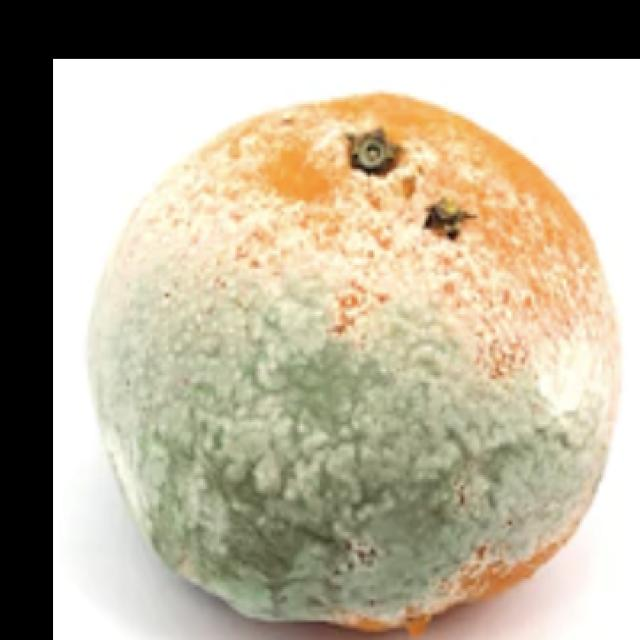sangat_busuk: (88, 95, 615, 632)
